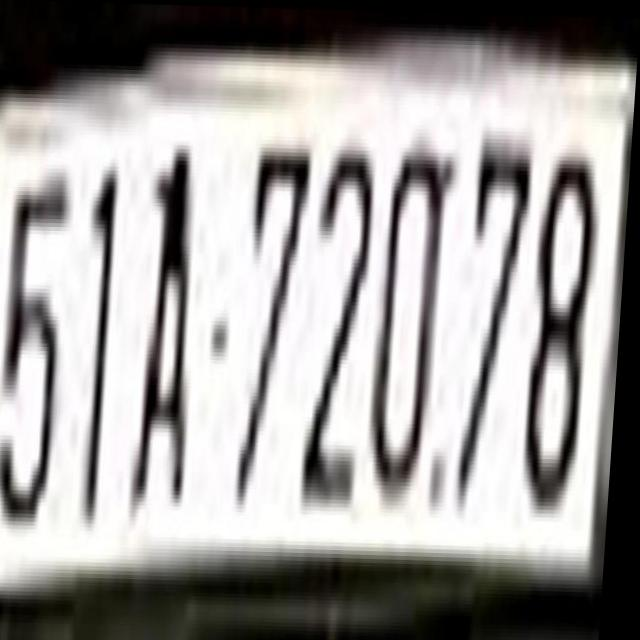0: (375, 126, 449, 503)
1: (76, 161, 130, 507)
2: (303, 147, 378, 505)
5: (0, 160, 72, 545)
7: (453, 112, 536, 521), (238, 126, 313, 500)
8: (521, 121, 602, 519)
A: (132, 147, 209, 510)
